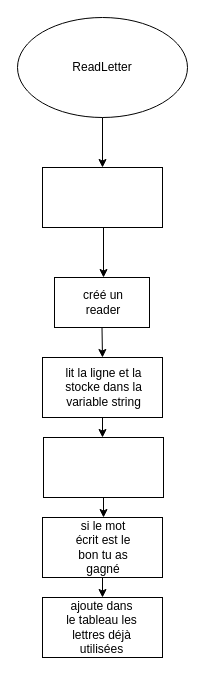
The diagram is 205 pixels wide and 675 high, and some of its shapes have lost their labels. The centre of each missing label's shape, as x and y in pixels:
"affiche dans la console la valeur de motIconnu" belongs at [102,197].
"supprime les espaces ou les retours a la ligne au début et à la fin de la chaine" belongs at [103,467].
